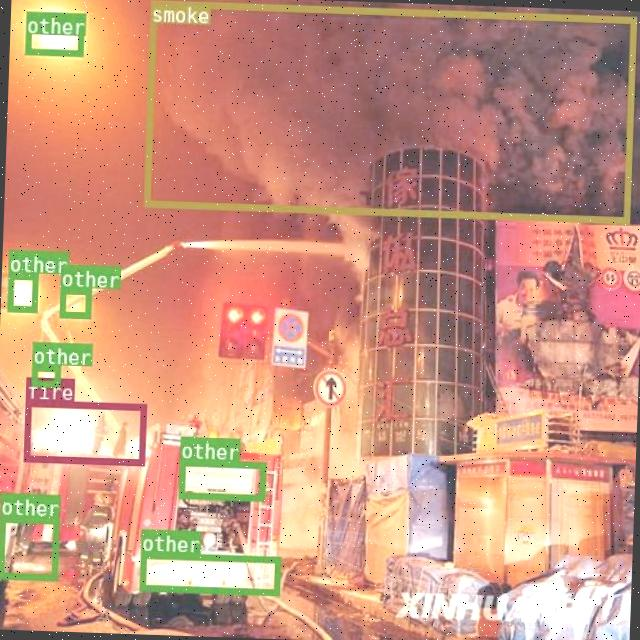fire: (22, 398, 145, 464)
smoke: (142, 0, 635, 222)
